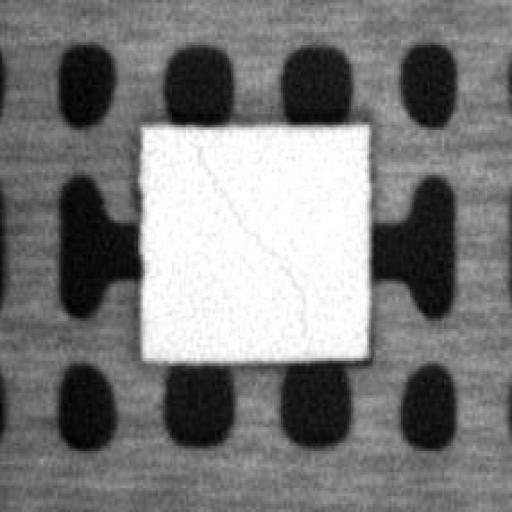DIE_CRACK: (197, 143, 304, 308)
